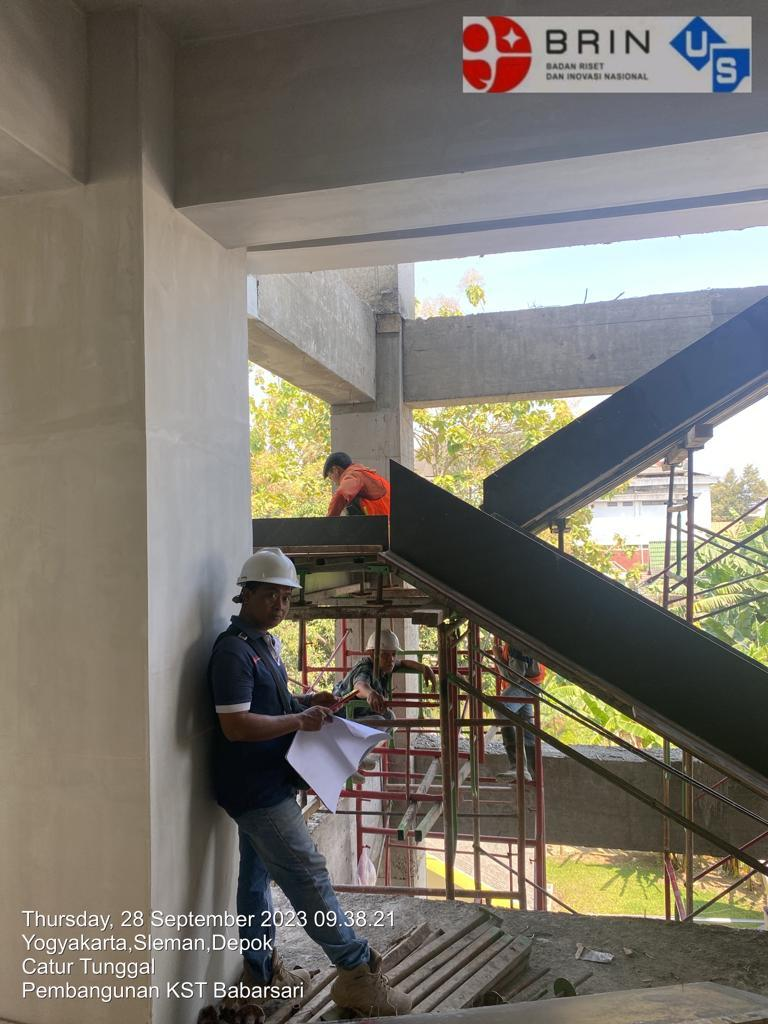hat: (225, 527, 310, 625)
no hat: (314, 438, 358, 492)
no vest: (194, 621, 324, 827)
vest: (338, 470, 391, 525)
